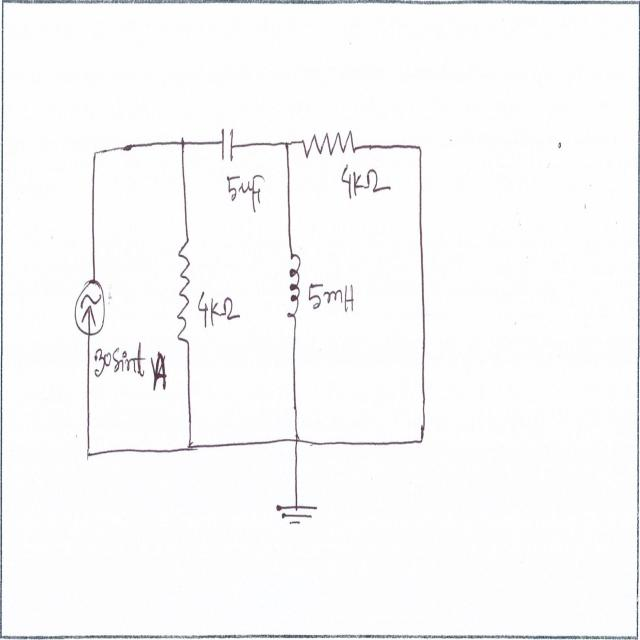capacitor: (218, 123, 240, 164)
current_source: (72, 275, 112, 340)
ground: (274, 495, 320, 530)
inductor: (284, 248, 304, 328)
resistor: (300, 123, 358, 158), (175, 239, 192, 356)
